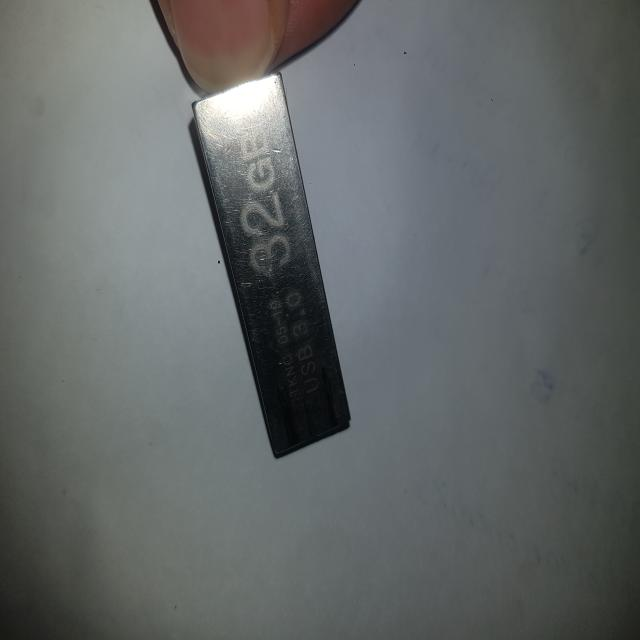electronic: (190, 71, 352, 458)
